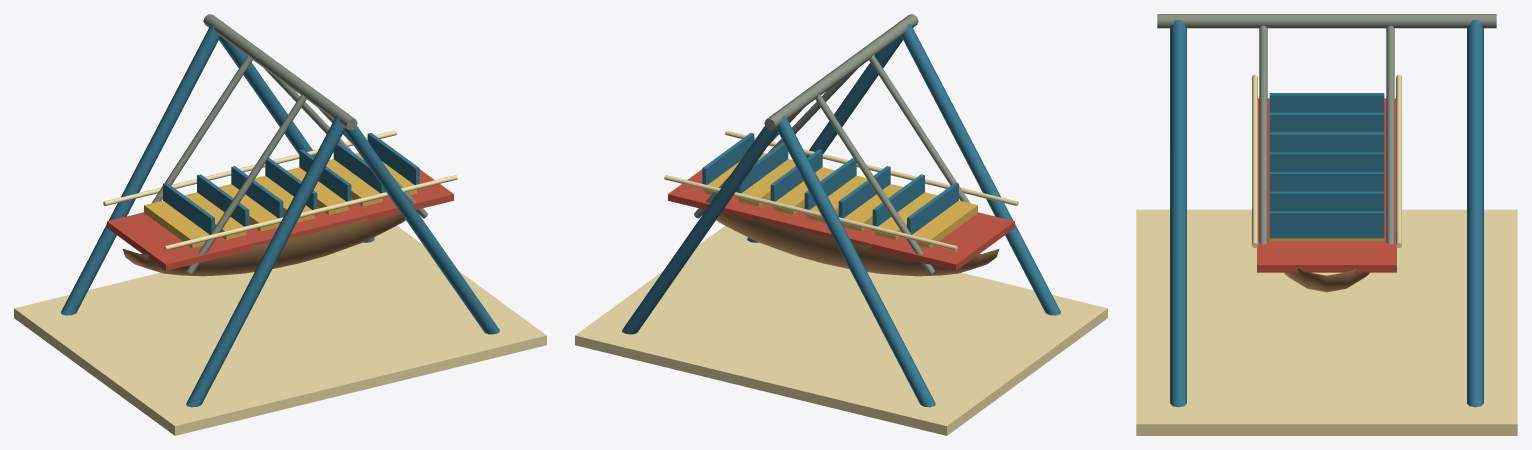
File: pirate-ship.glb
3 views of the same model, side by side, from view 1: azimuth 30°, elevation 25°; view 2: azimuth 150°, elevation 25°; view 3: azimuth 270°, elevation 25° (orthographic). The views are drawn at different scales.
Parts seen in each view (by area): view 1: Park_pirate-ship, PirateSwing; view 2: Park_pirate-ship, PirateSwing; view 3: Park_pirate-ship, PirateSwing.
Part boxes in pixels (x1=…): Park_pirate-ship: x1=14, y1=14, x2=546, y2=435; PirateSwing: x1=103, y1=55, x2=457, y2=276; Park_pirate-ship: x1=575, y1=14, x2=1107, y2=435; PirateSwing: x1=664, y1=55, x2=1018, y2=276; Park_pirate-ship: x1=1136, y1=14, x2=1517, y2=435; PirateSwing: x1=1252, y1=25, x2=1401, y2=292.
Bounding box in the file's own units: 12 × 8.29 × 9.
